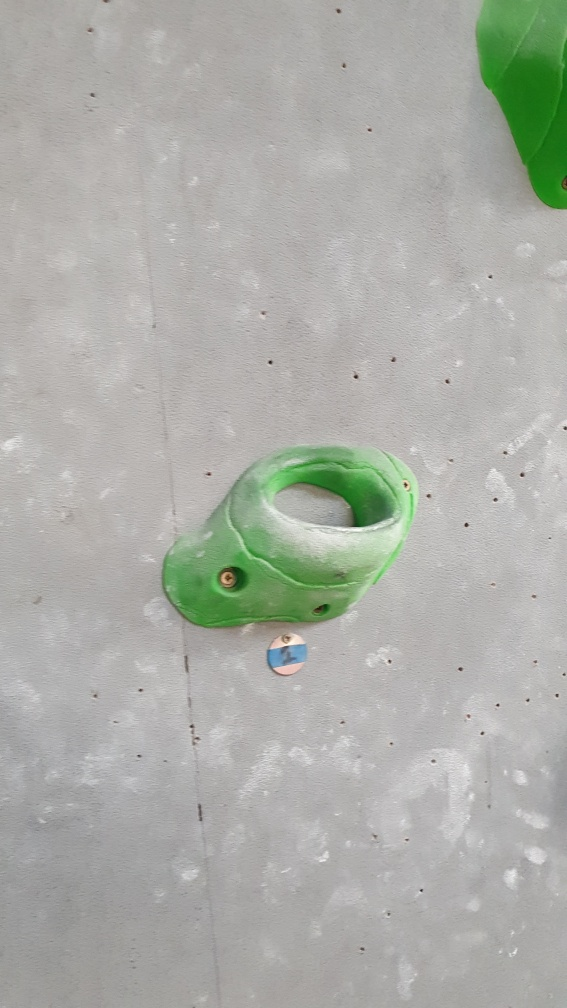Hand Start: (267, 631, 311, 680)
Pocket: (159, 442, 420, 631)
